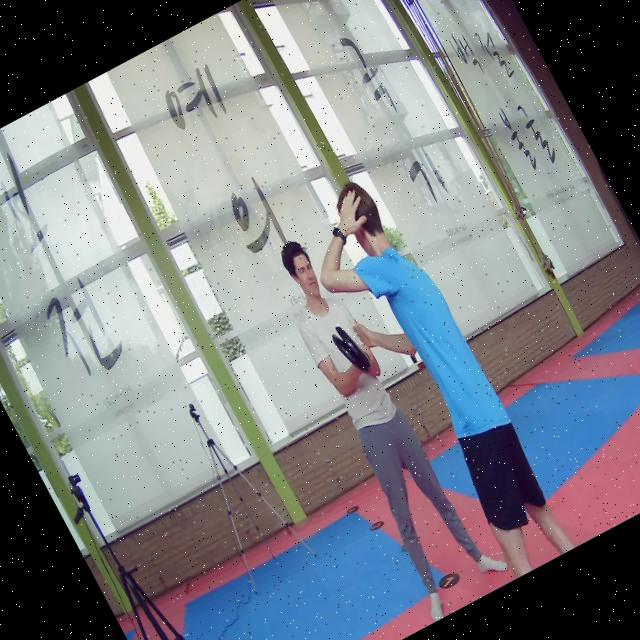paddle: (330, 325, 370, 370)
